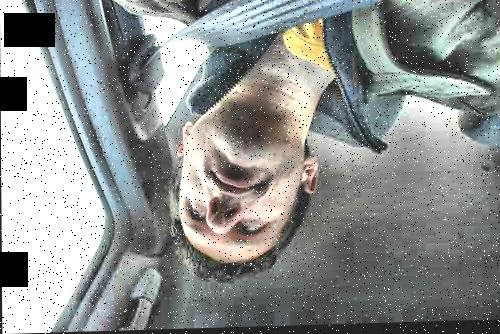seatbelt: (137, 0, 397, 55)
